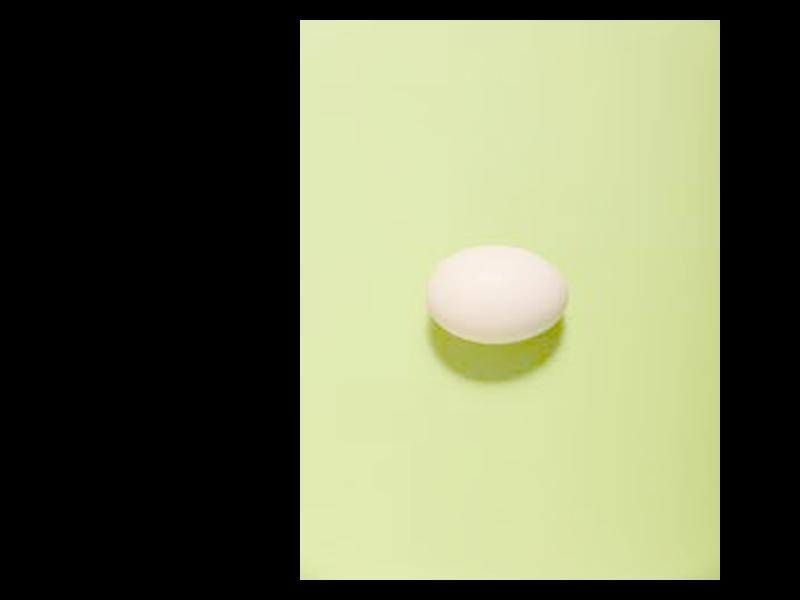Eggs: (426, 248, 571, 344)
